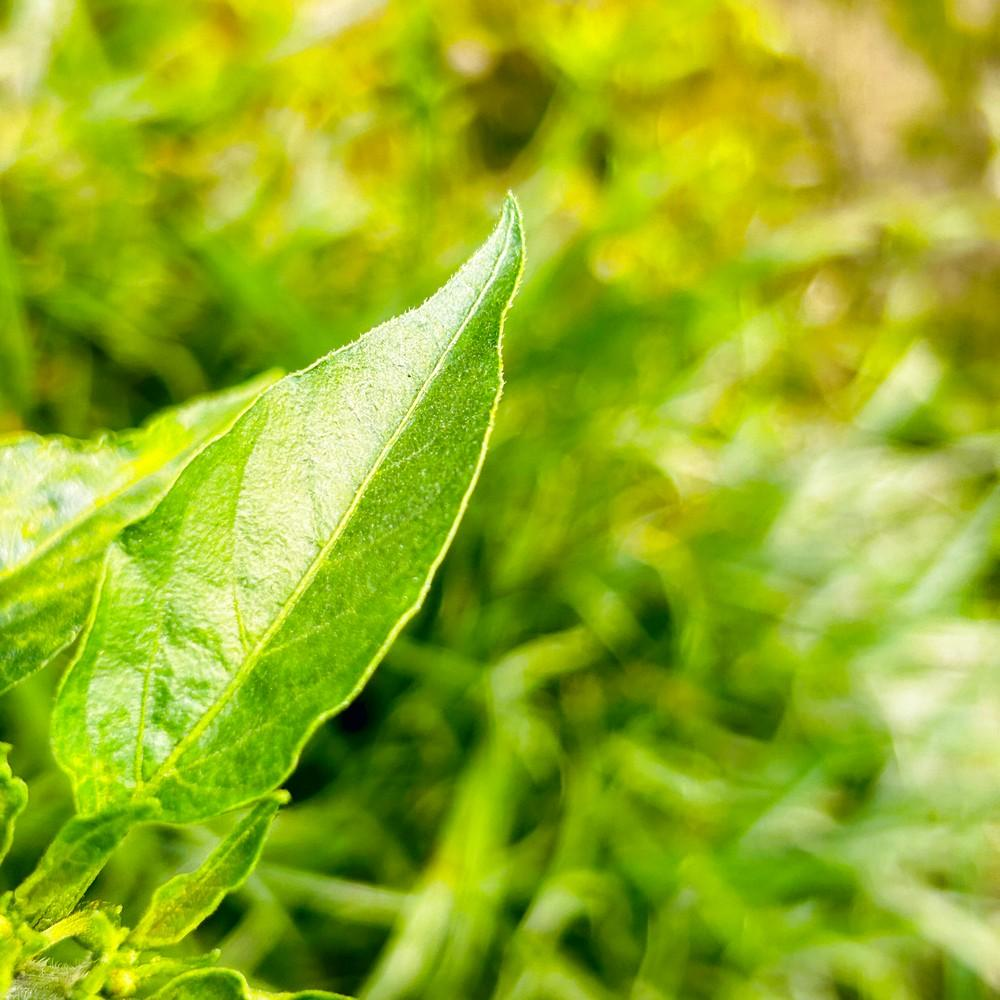Daun Cabai Sehat: (1, 185, 530, 993)
